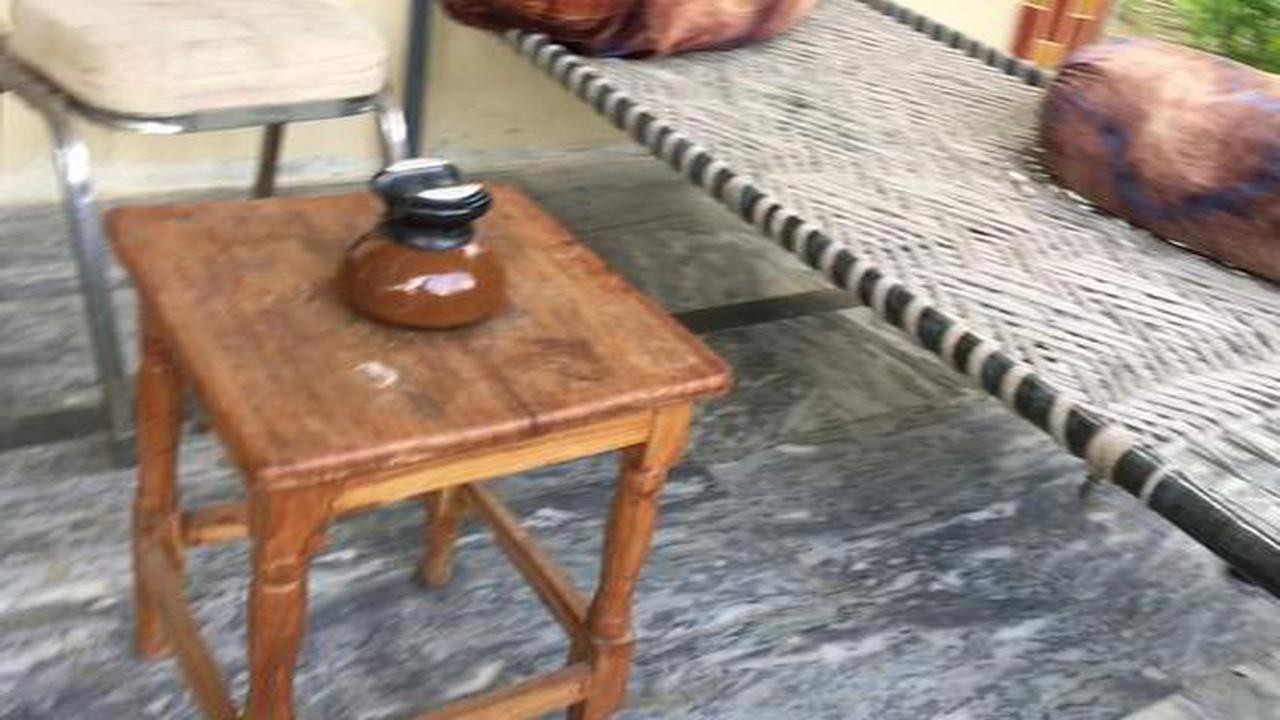insulator_pin: (314, 143, 530, 350)
